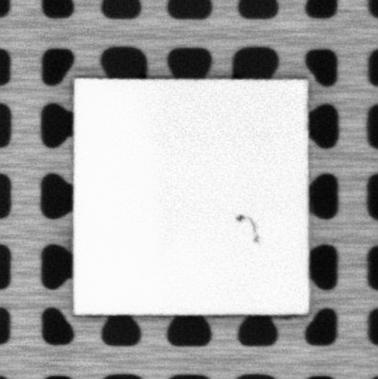DIE_INK: (235, 213, 262, 245)
